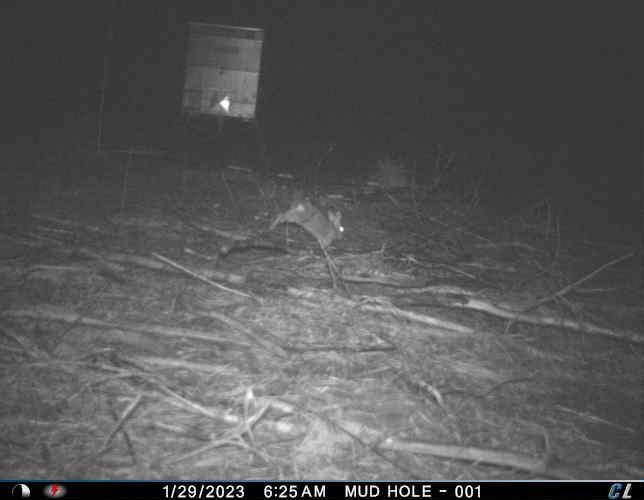Rabbit: (271, 196, 347, 255)
